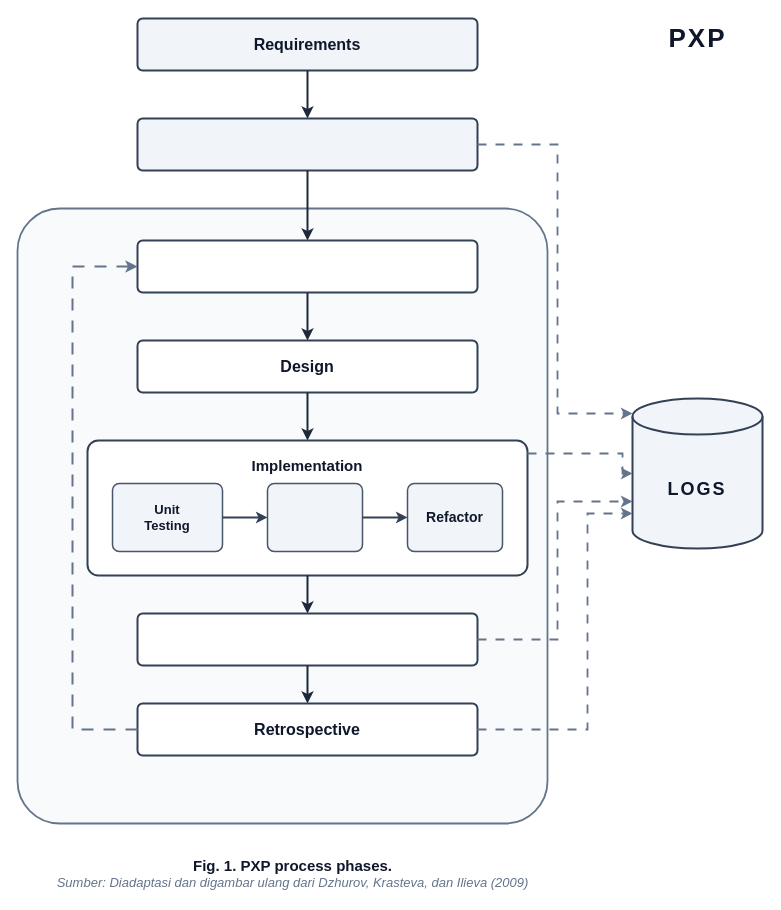
Some shapes in this 781 by 910 pixel diagram are drawn without their labels. The shapes that lost their labels are listed below. From the top down, each one's centre as x and y in pixels, then its label:
pixel 307 144: Planning
pixel 307 266: Iteration Initialization
pixel 314 517: Code
pixel 307 639: System Testing
